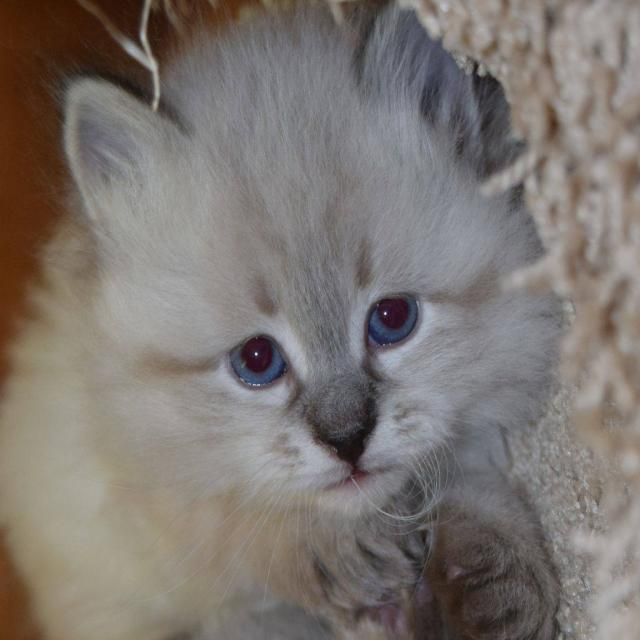Neva Masquerade: (0, 0, 573, 640)
